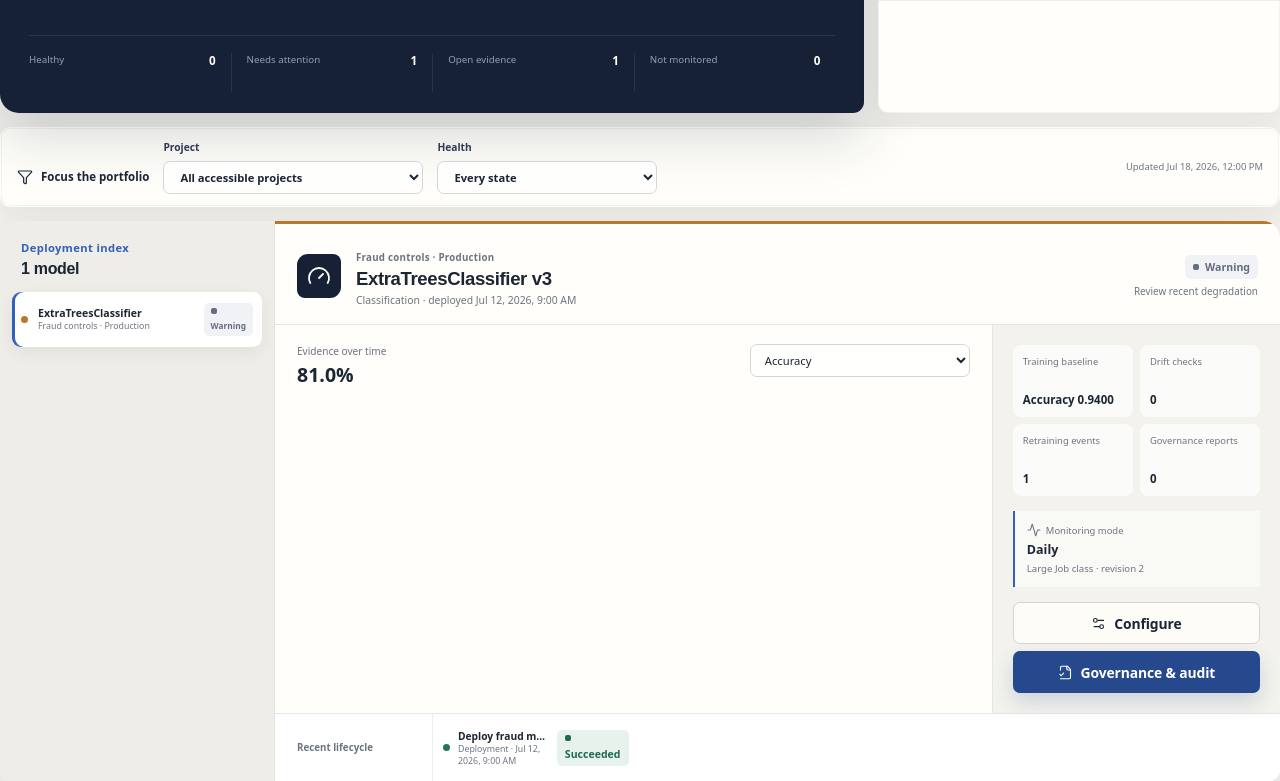
Scenario: core workflow integrations › shows centralized deployment evidence and governance actions
(page scrolled)
expect the heading "ExtraTreesClassifier v3" is shown: met, box [356, 268, 552, 289]
expect the text "Review recent degradation" is shown: met, box [1134, 284, 1258, 298]
Click the button "Governance & audit" at [1136, 672], box [1013, 651, 1260, 693]
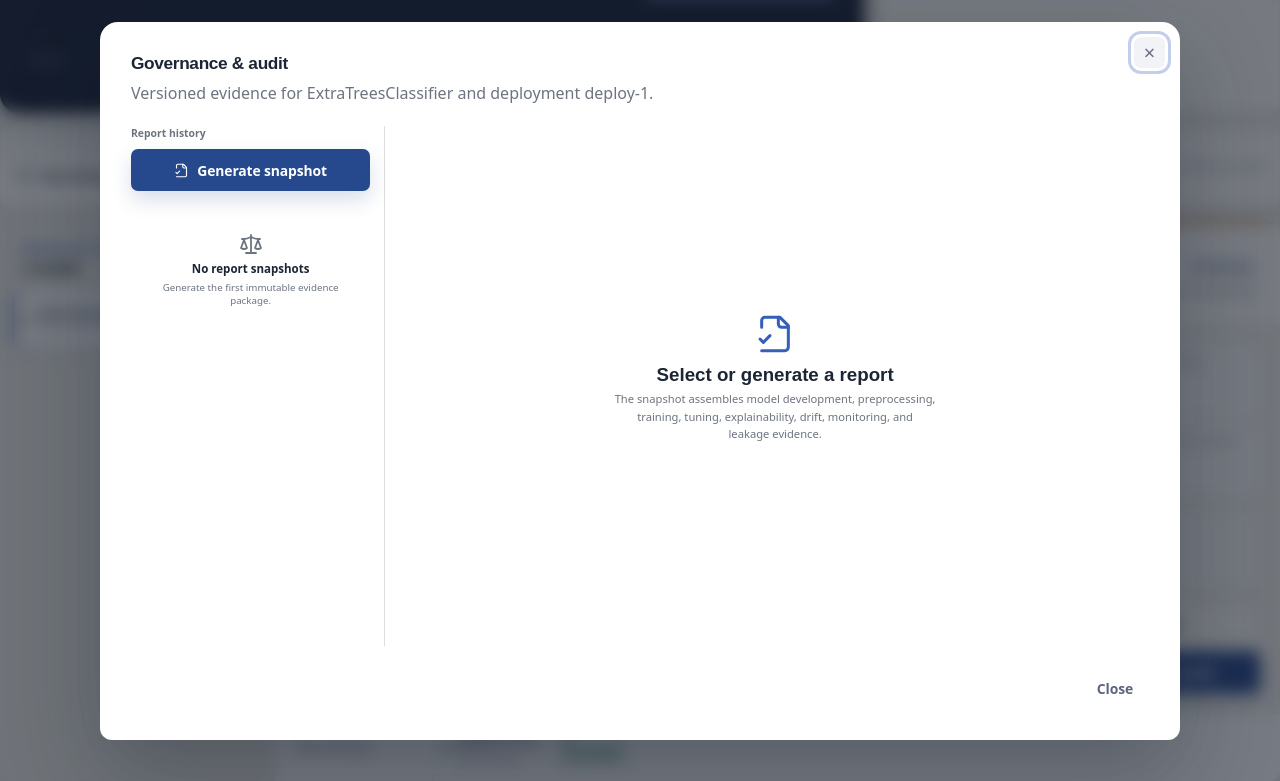
expect the text "No report snapshots" is shown: met, box [192, 261, 309, 276]
expect the button "Generate snapshot" is shown: met, box [131, 149, 370, 191]
